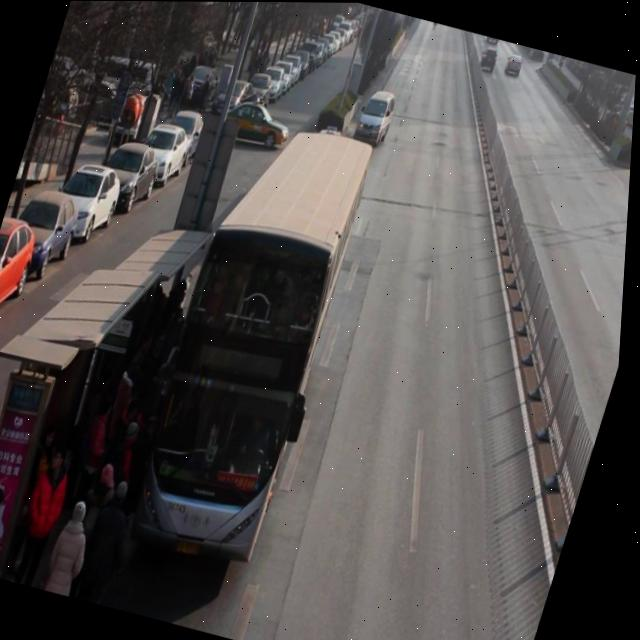truck: (354, 85, 400, 148)
van: (128, 107, 383, 559)
